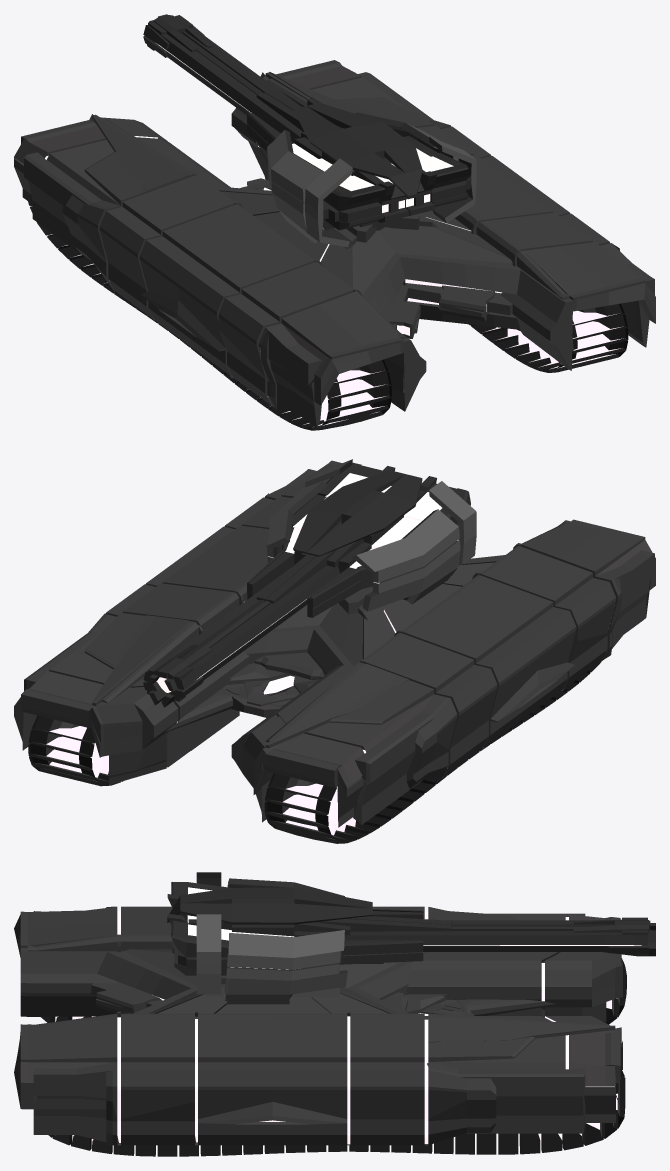
Rendered from scifi_tank.gltf.
3 views of the same model, one above another, from view 1: azimuth 30°, elevation 25°; view 2: azimuth 150°, elevation 25°; view 3: azimuth 270°, elevation 25° (orthographic). The views are drawn at different scales.
Visible parts, largest first — view 1: Tank Armature, Cube, Cube.001, Cube.000; view 2: Tank Armature, Cube, Cube.001, Cube.000; view 3: Tank Armature, Cube, Cube.000, Cube.001.
Boxes of the visible parts, <box> form: Tank Armature: <box>14,60,655,427</box>; Cube: <box>143,14,476,247</box>; Cube.001: <box>28,201,391,430</box>; Cube.000: <box>469,303,628,372</box>; Tank Armature: <box>14,460,655,827</box>; Cube: <box>143,459,476,707</box>; Cube.001: <box>264,661,601,843</box>; Cube.000: <box>28,715,123,786</box>; Tank Armature: <box>14,906,622,1145</box>; Cube: <box>167,872,655,1004</box>; Cube.000: <box>48,1067,625,1156</box>; Cube.001: <box>41,958,626,1024</box>.
Size of the model in its own units: 4.04 by 2.13 by 6.37.
